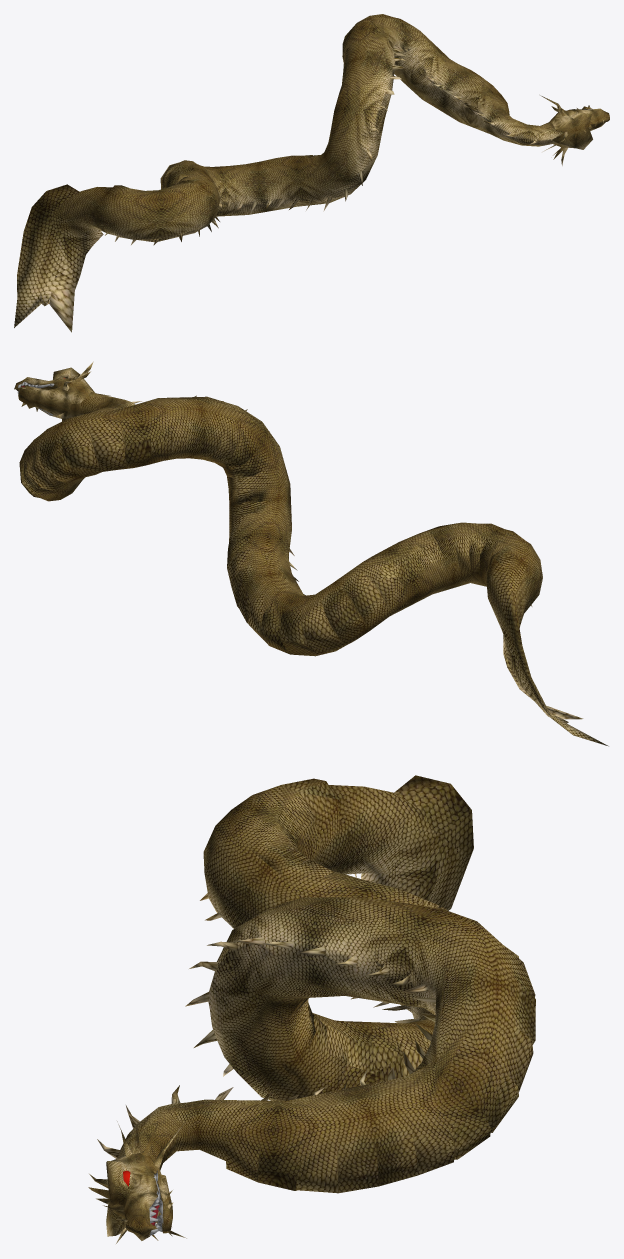
Rendered from surasa_000040.obj.
The picture shows the model from 3 angles, top to bottom: view 1: azimuth 30°, elevation 25°; view 2: azimuth 150°, elevation 25°; view 3: azimuth 270°, elevation 25°; orthographic projection. The views are drawn at different scales.
Parts seen in each view (by area): view 1: body_Plane.001; view 2: body_Plane.001; view 3: body_Plane.001.
Boxes of the visible parts, x1,y1,x2,y2 form: body_Plane.001: (14,14,609,332); body_Plane.001: (14,361,608,746); body_Plane.001: (88,775,535,1243).
Bounding box in the file's own units: 60.13 × 21.17 × 21.61.
